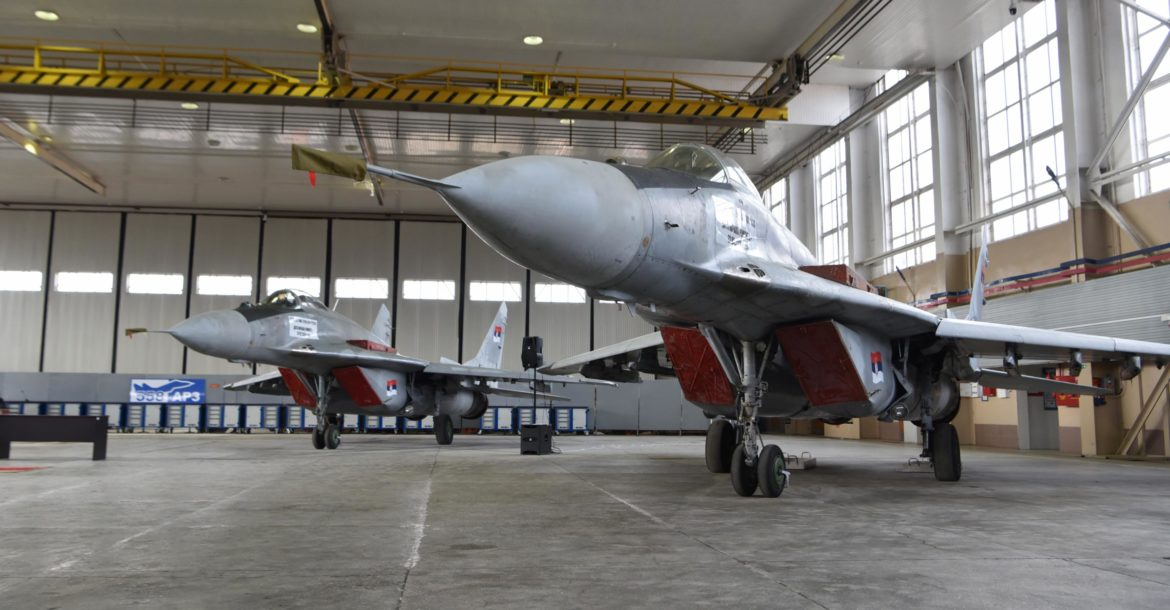Mig-29: (368, 91, 1170, 534), (102, 229, 563, 493)
